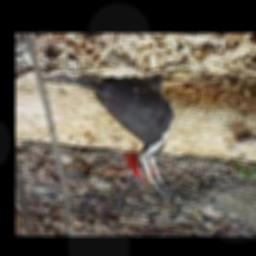Woodpecker: (55, 73, 174, 195)
